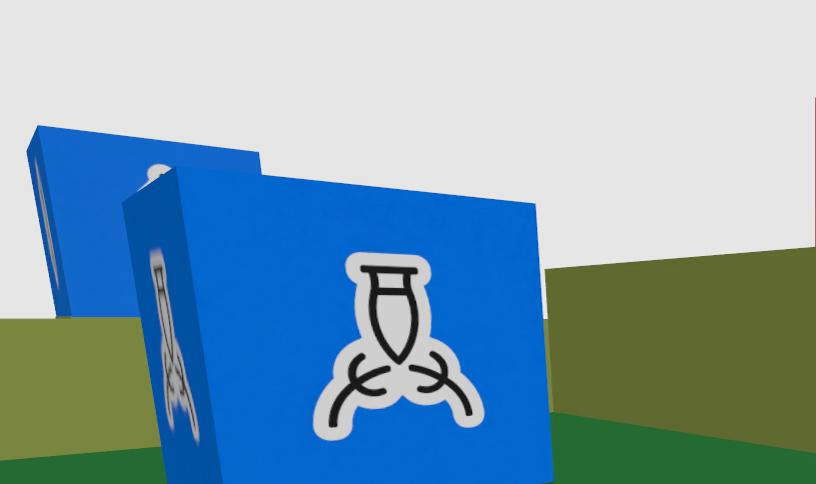KFS_FAKE: (815, 100, 816, 172)
KFS_REAL: (123, 163, 552, 484), (314, 252, 484, 440), (151, 249, 200, 442)
